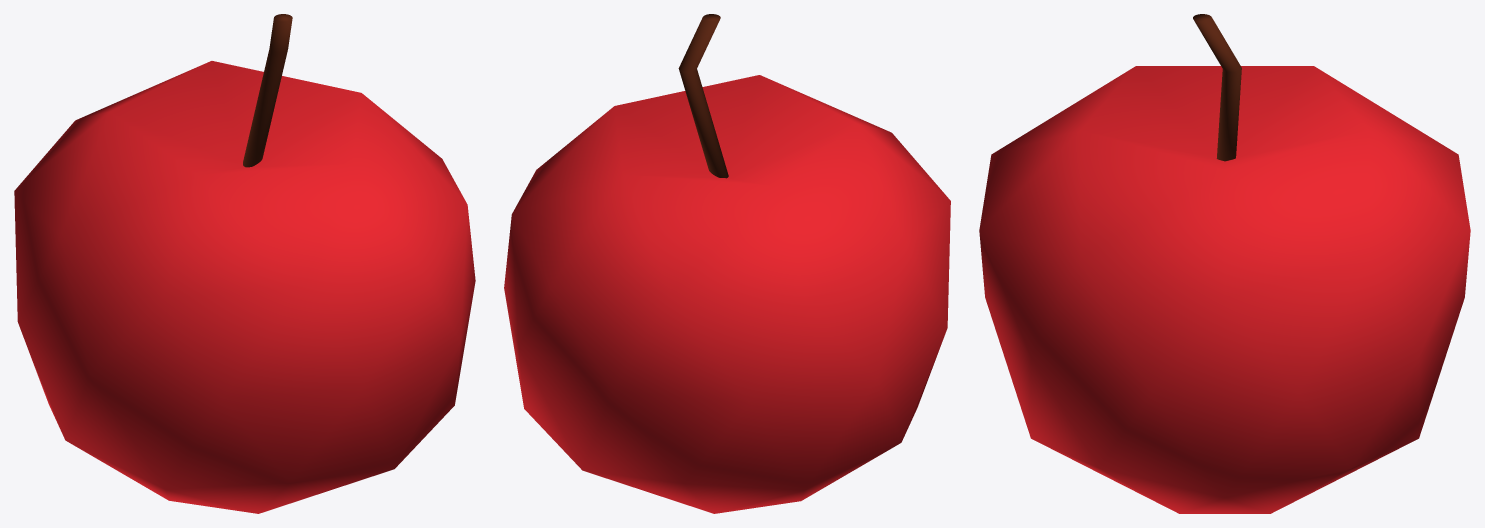
Rendered from Apple.fbx.
3 renders of one model, left to right at view 1: azimuth 30°, elevation 25°; view 2: azimuth 150°, elevation 25°; view 3: azimuth 270°, elevation 25°, orthographic. The views are drawn at different scales.
Parts seen in each view (by area): view 1: Apple; view 2: Apple; view 3: Apple.
Boxes of the visible parts, x1,y1,x2,y2 form: Apple: (14, 14, 475, 513); Apple: (504, 14, 950, 513); Apple: (979, 14, 1470, 513).
Bounding box in the file's own units: 1.92 × 2.2 × 2.05.
